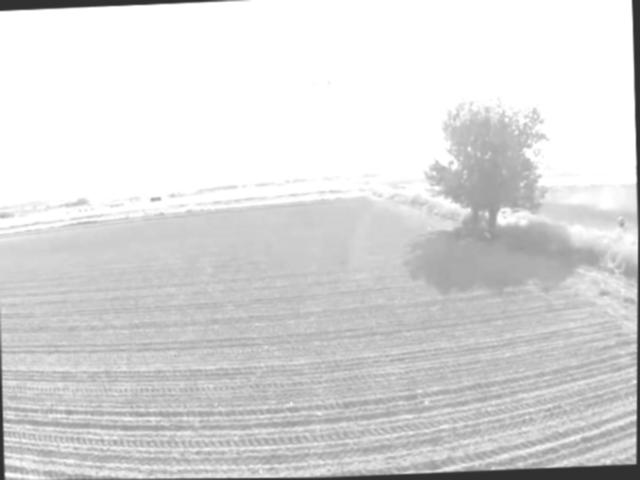hedef: (269, 51, 390, 121)
